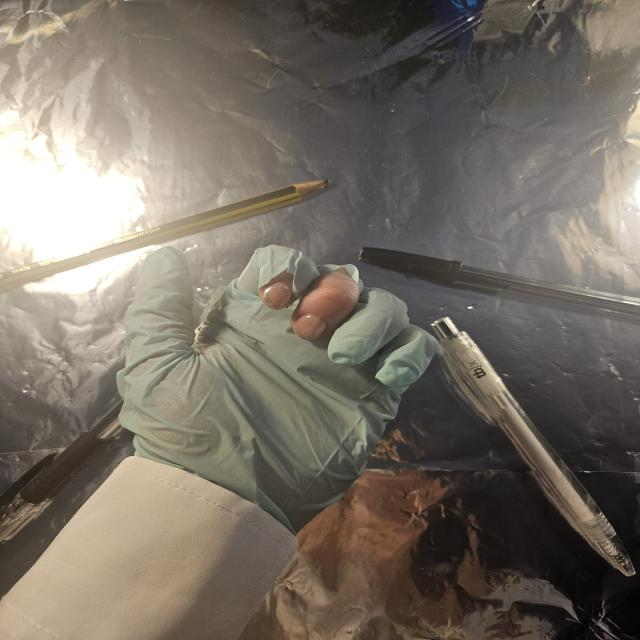gloves_damaged: (115, 242, 439, 538)
